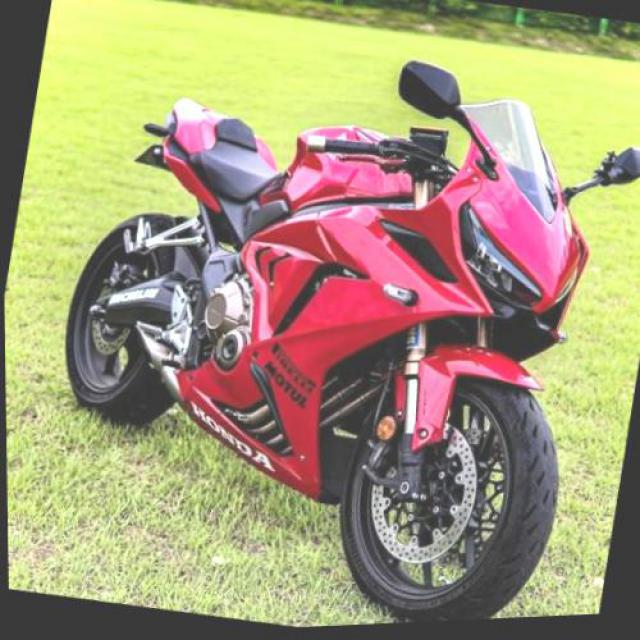CBR650R: (12, 27, 628, 639)
